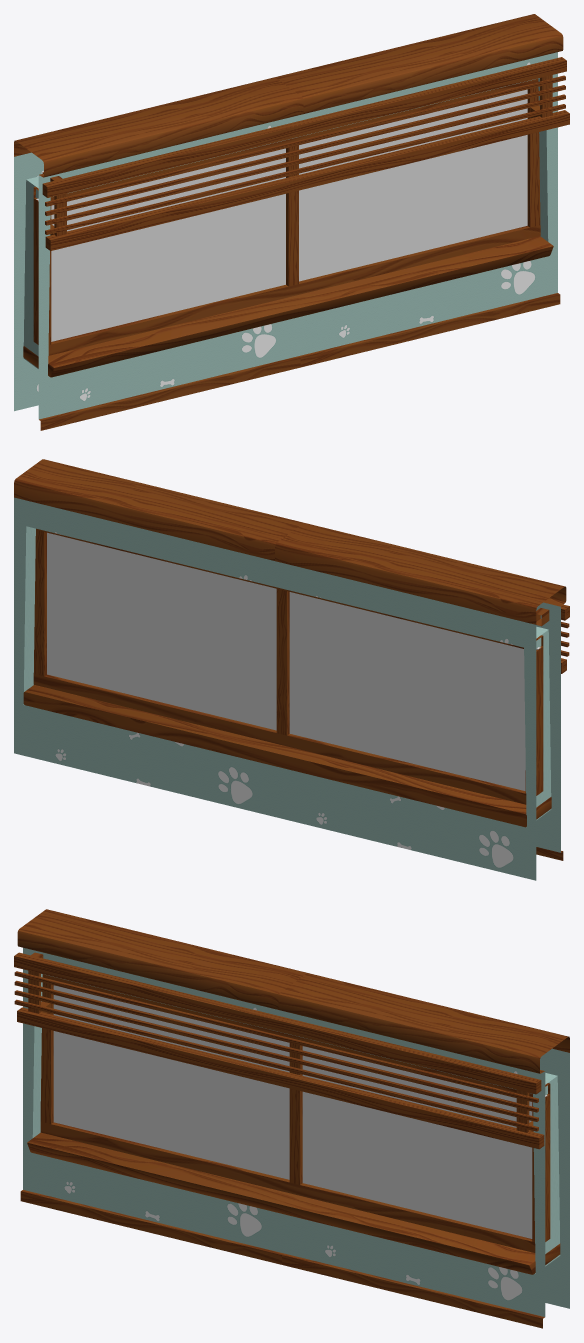
The model's file is SM_Env_WallWindow.fbx.
3 renders of one model, top to bottom at view 1: azimuth 30°, elevation 25°; view 2: azimuth 150°, elevation 25°; view 3: azimuth 330°, elevation 25°, orthographic.
Visible parts, largest first — view 1: SM_Env_WallWindow; view 2: SM_Env_WallWindow; view 3: SM_Env_WallWindow.
Boxes of the visible parts, bbox=[...] form: SM_Env_WallWindow: bbox=[14, 14, 569, 430]; SM_Env_WallWindow: bbox=[14, 459, 569, 880]; SM_Env_WallWindow: bbox=[14, 909, 569, 1328].
Size of the model in its own units: 5.03 by 2.5 by 0.5585.
